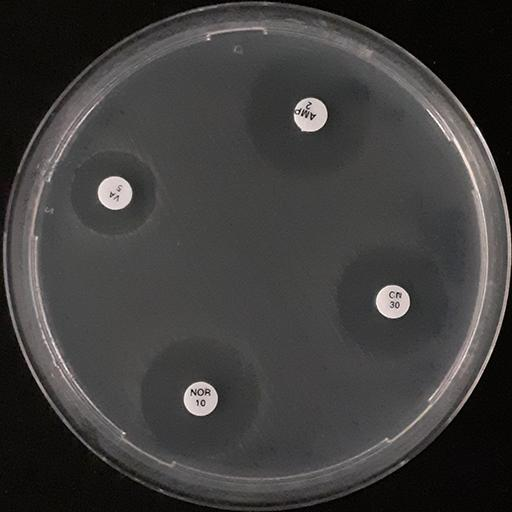disc: (98, 176, 132, 211), (184, 382, 218, 417), (376, 285, 410, 319), (294, 98, 327, 132)
